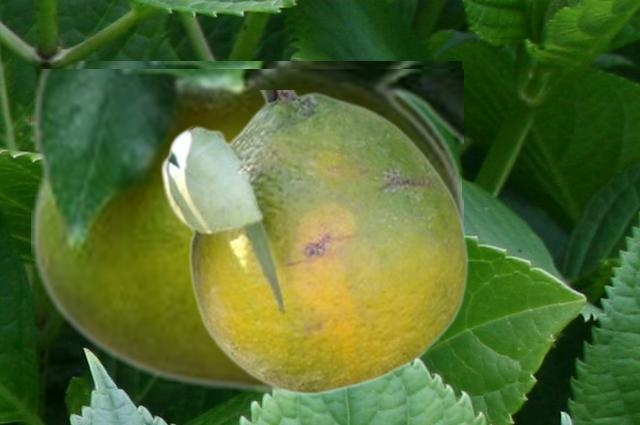dalandan: (31, 69, 462, 394), (159, 90, 468, 394), (68, 61, 460, 182)
